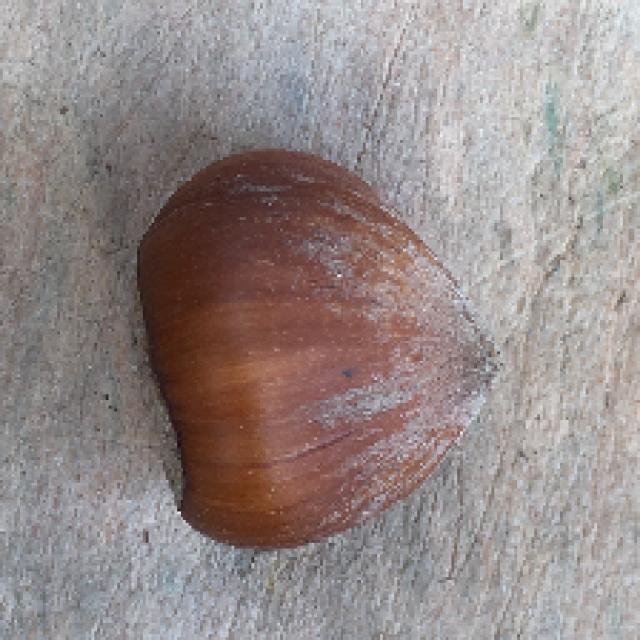QualityHazelnut: (122, 150, 514, 555)
